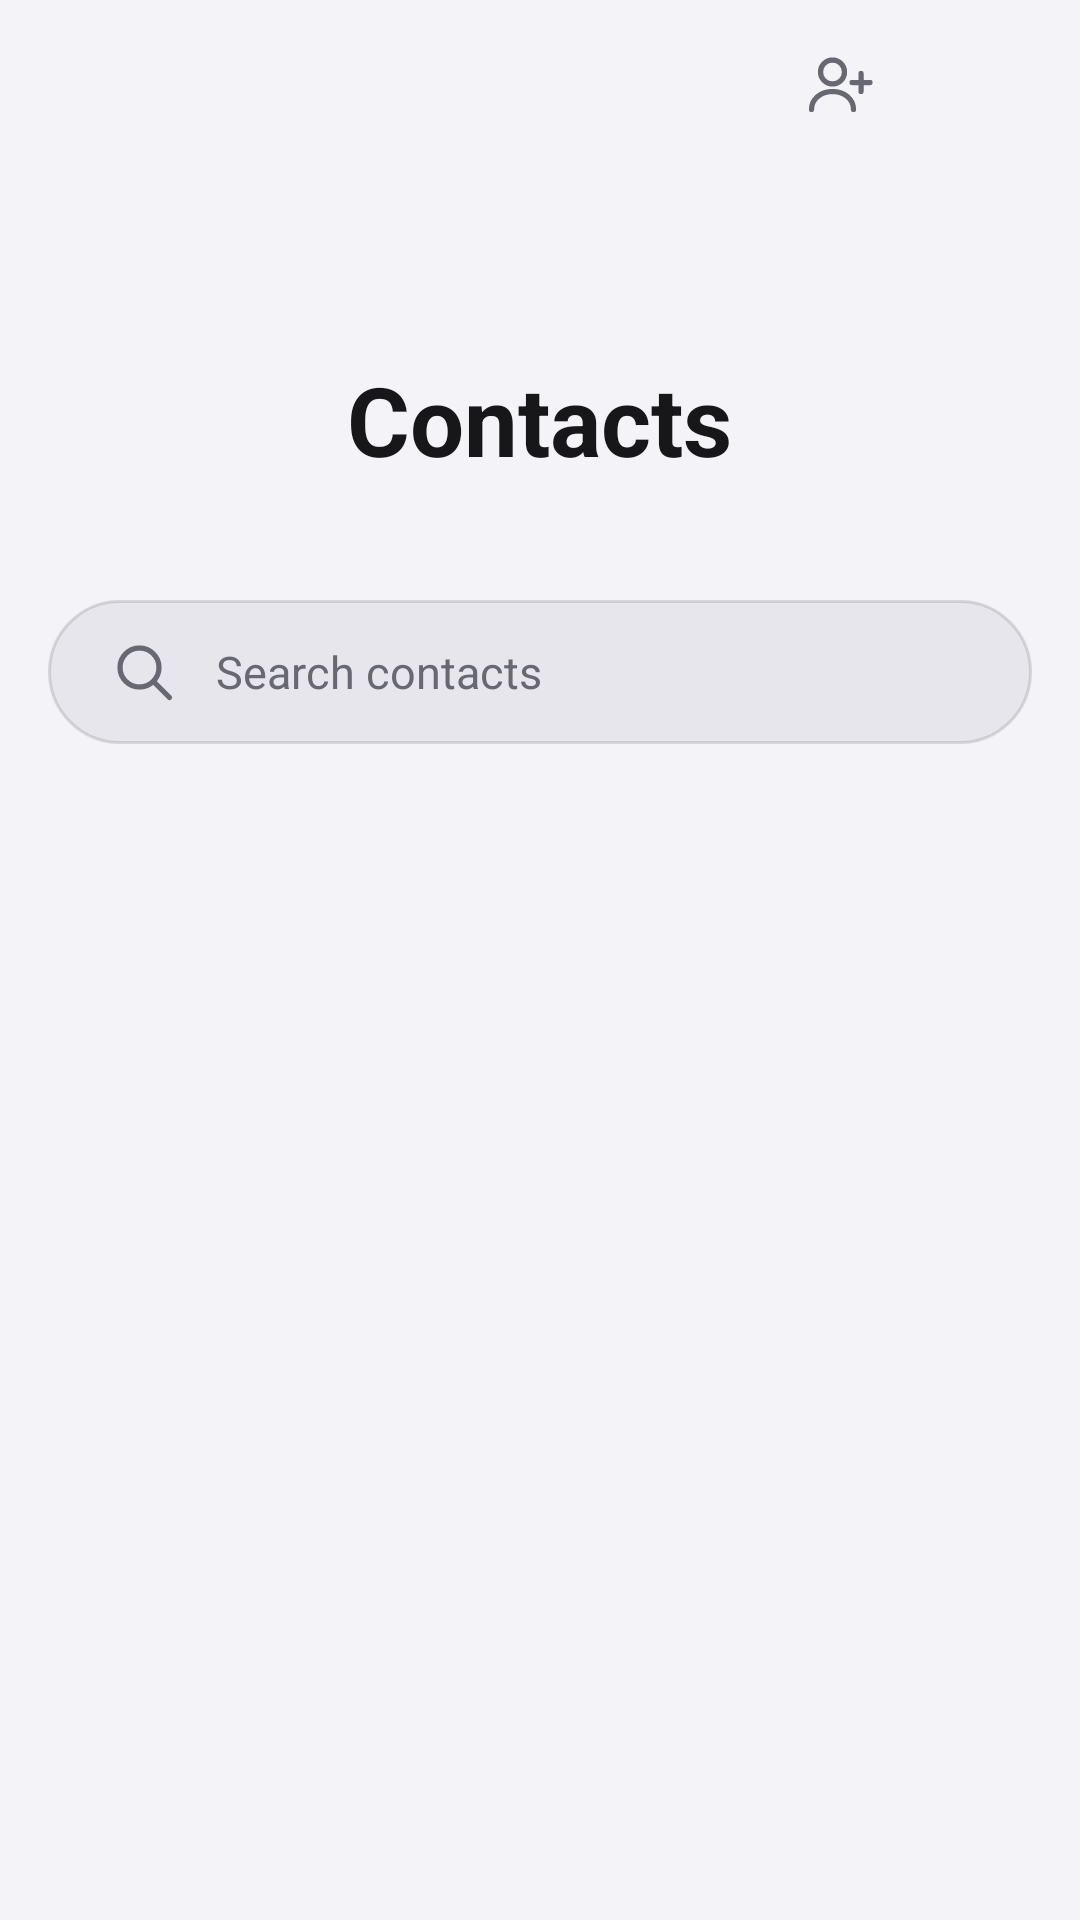

Icon bounding boxes for this 1080w x 1920h phone screenshot, format rect(x1, y1, x2, y2):
New contact: rect(809, 57, 873, 112)
